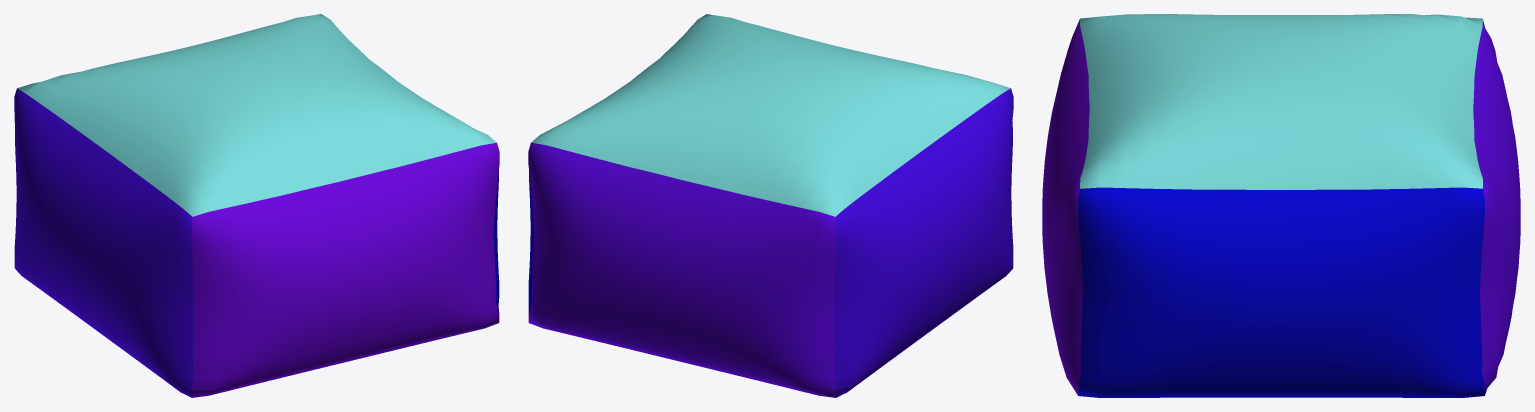
File: keycap.glb
The picture shows the model from 3 angles, left to right: view 1: azimuth 30°, elevation 25°; view 2: azimuth 150°, elevation 25°; view 3: azimuth 270°, elevation 25°; orthographic projection. The views are drawn at different scales.
Parts seen in each view (by area): view 1: keycap; view 2: keycap; view 3: keycap.
Part boxes in pixels (x1,y1,x2,y2): keycap: (14,14,499,397); keycap: (528,14,1013,397); keycap: (1042,14,1520,397).
Bounding box in the file's own units: 0.4825 × 0.2902 × 0.4825.
